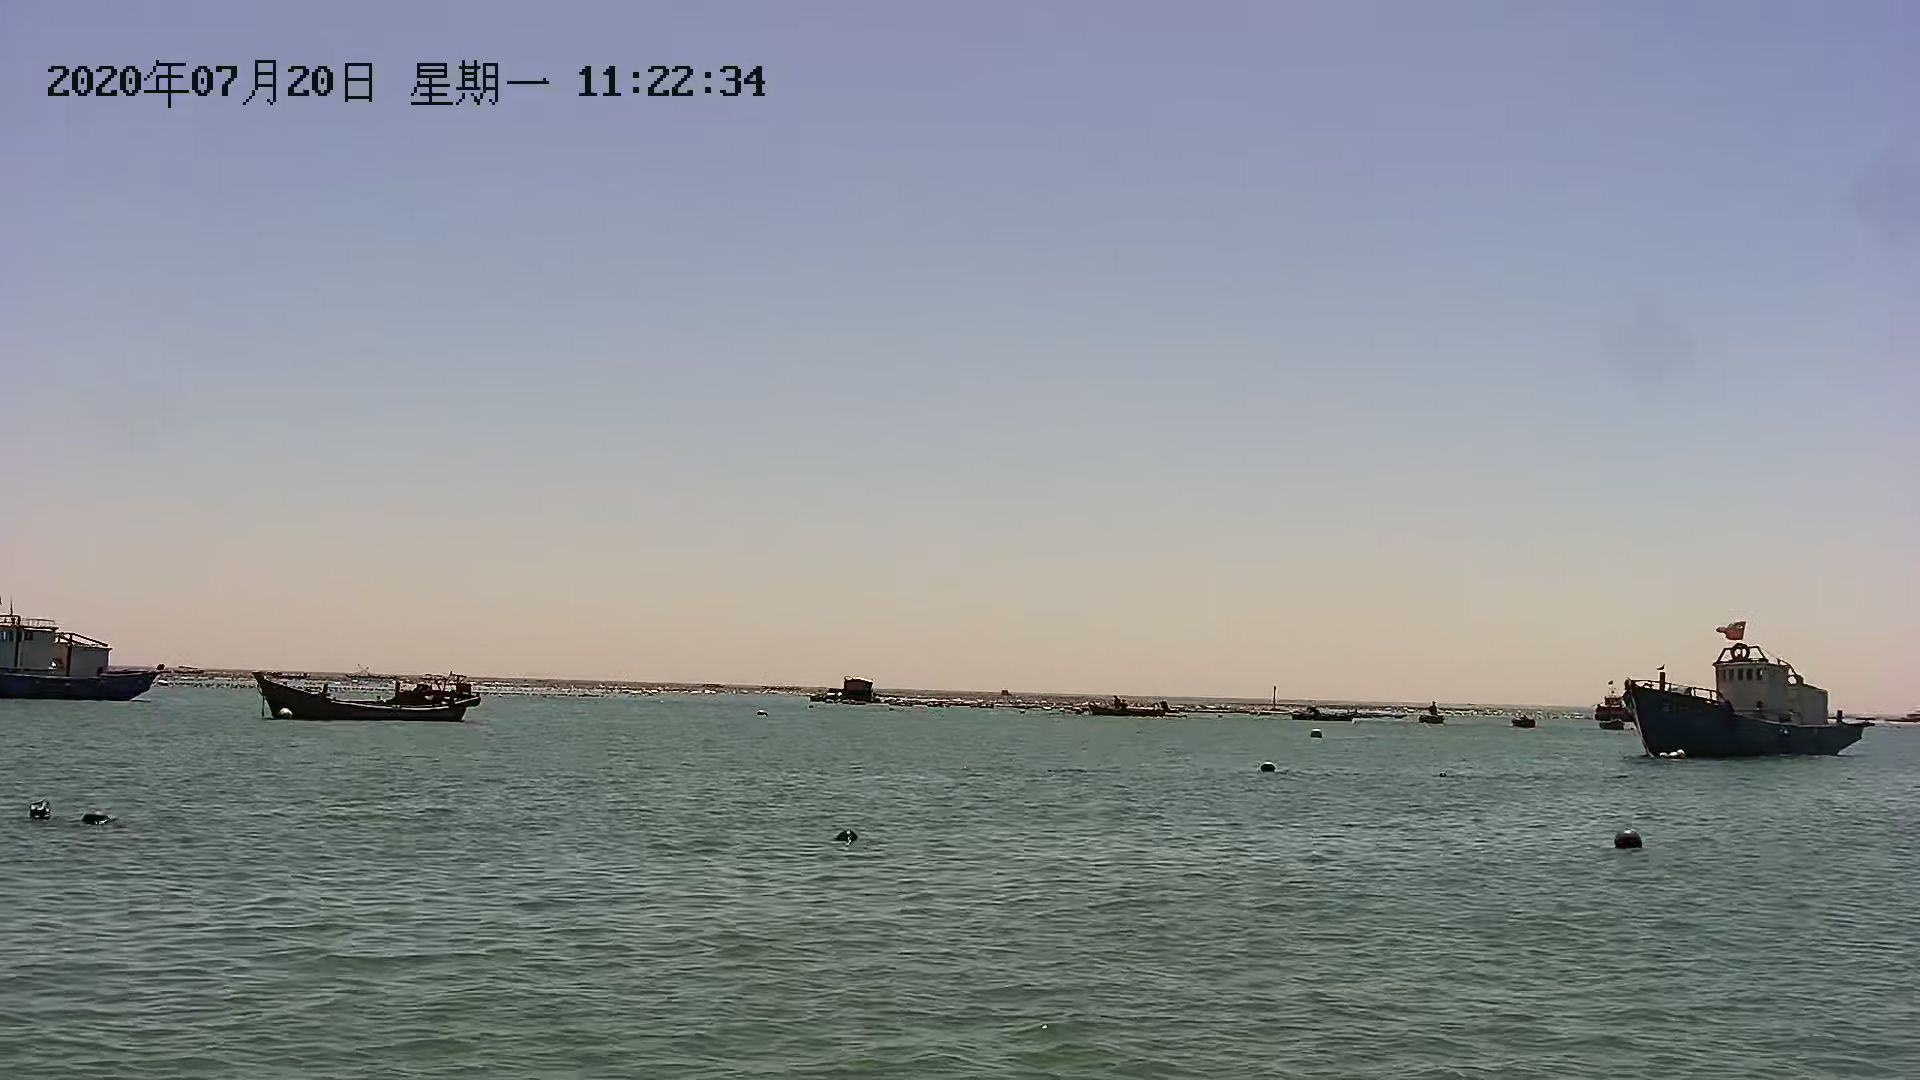ball: (1606, 825, 1647, 857), (18, 794, 55, 820), (829, 825, 866, 847), (76, 804, 109, 827), (1255, 760, 1282, 783), (1503, 713, 1539, 729)
boat: (1600, 638, 1887, 760), (252, 659, 483, 727), (1, 628, 173, 699), (1089, 695, 1171, 721)
platform: (835, 669, 887, 702)
